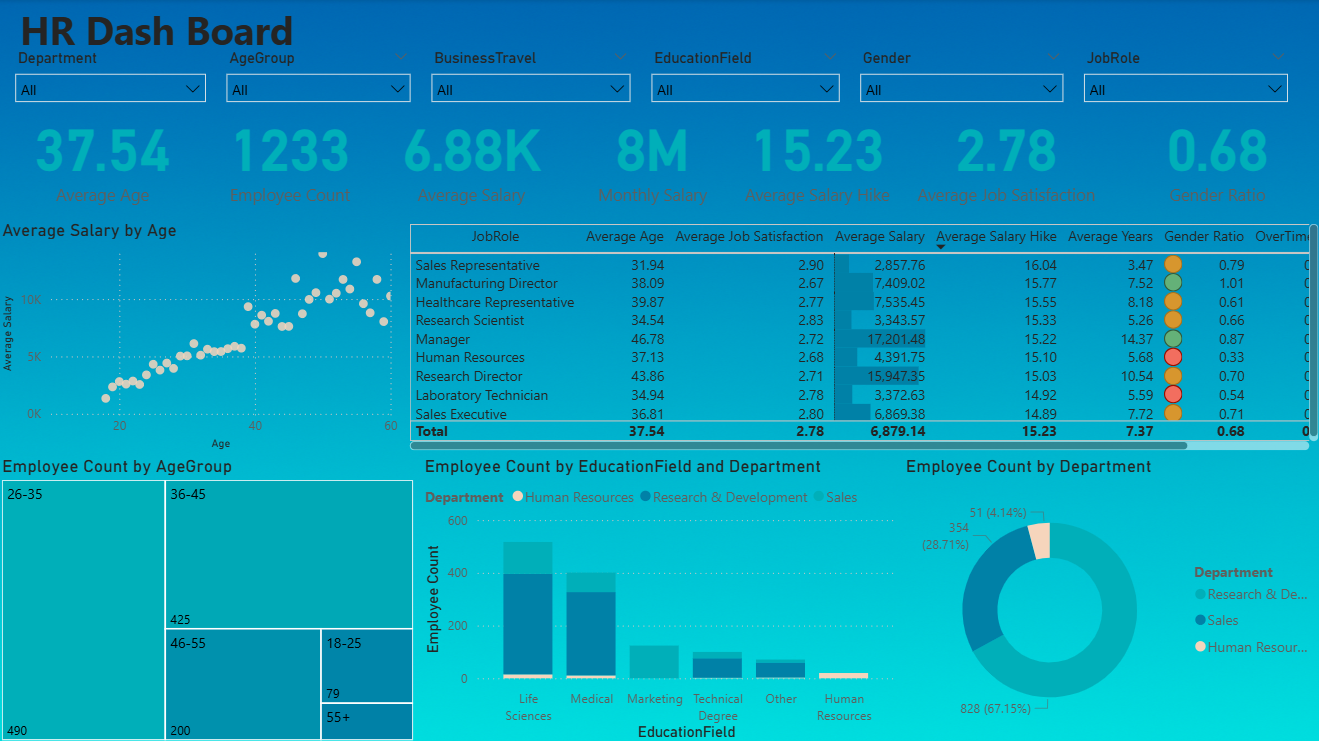

This screenshot's page, from the dashboard's own definition file:
{"tool":"powerbi","page":{"name":"OVER VIEW","canvas":[1280,720],"ordinal":0},"visuals":[{"type":"treemap","fields":{"Values":["HR_Analytics.Employee Count"],"Group":["HR_Analytics.AgeGroup"]},"box":[0,440,406.7,280],"z":0},{"type":"columnChart","fields":{"Series":["HR_Analytics.Department"],"Y":["HR_Analytics.Employee Count"],"Category":["HR_Analytics.EducationField"]},"box":[408,440,464,280],"z":1000},{"type":"donutChart","fields":{"Category":["HR_Analytics.Department"],"Y":["HR_Analytics.Employee Count"]},"box":[872,440,408,280],"z":2000},{"type":"scatterChart","fields":{"X":["HR_Analytics.Age"],"Y":["HR_Analytics.Average Salary"]},"box":[0,212,392,228],"z":3000},{"type":"tableEx","fields":{"Values":["HR_Analytics.JobRole","HR_Analytics.Average Age","HR_Analytics.Average Job Satisfaction","HR_Analytics.Average Salary","HR_Analytics.Average Salary Hike","HR_Analytics.Average Years","HR_Analytics.Gender Ratio","HR_Analytics.OverTime %","HR_Analytics.Employee Count"]},"box":[392,212,888,228],"z":4000},{"type":"card","fields":{"Values":["HR_Analytics.Employee Count"]},"box":[204,88,158,124],"z":5000},{"type":"card","fields":{"Values":["HR_Analytics.Average Salary"]},"box":[362,88,192,124],"z":6000},{"type":"card","fields":{"Values":["HR_Analytics.Average Age"]},"box":[0,88,204,124],"z":7000},{"type":"card","fields":{"Values":["HR_Analytics.Monthly Salary"]},"box":[554,88,158,124],"z":8000},{"type":"card","fields":{"Values":["HR_Analytics.Average Salary Hike"]},"box":[712,88,160,124],"z":9000},{"type":"card","fields":{"Values":["HR_Analytics.Average Job Satisfaction"]},"box":[872,88,204,124],"z":10000},{"type":"card","fields":{"Values":["HR_Analytics.Gender Ratio"]},"box":[1076,88,204,124],"z":11000},{"type":"slicer","fields":{"Values":["HR_Analytics.Department"]},"box":[7,44,204,60],"z":12000},{"type":"slicer","fields":{"Values":["HR_Analytics.AgeGroup"]},"box":[211,44,198,60],"z":13000},{"type":"slicer","fields":{"Values":["HR_Analytics.BusinessTravel"]},"box":[409,44,212,60],"z":14000},{"type":"slicer","fields":{"Values":["HR_Analytics.EducationField"]},"box":[621,44,202,68],"z":15000},{"type":"slicer","fields":{"Values":["HR_Analytics.Gender"]},"box":[823,44,216,68],"z":16000},{"type":"slicer","fields":{"Values":["HR_Analytics.JobRole"]},"box":[1039,44,217,60],"z":17000},{"type":"textbox","box":[17.1,0,411.4,74.3],"z":18000}]}

Visuals, with their boxes in screenshot pixels (x1, y1, x2, y2), scaled from the page's 1280x720 canvas onto the 1319x741 screenshot:
treemap - HR_Analytics.Employee Count x HR_Analytics.AgeGroup: box=[0, 453, 419, 740]
columnChart - HR_Analytics.Department x HR_Analytics.Employee Count: box=[420, 453, 899, 740]
donutChart - HR_Analytics.Department x HR_Analytics.Employee Count: box=[899, 453, 1318, 740]
scatterChart - HR_Analytics.Age x HR_Analytics.Average Salary: box=[0, 218, 404, 453]
tableEx - HR_Analytics.JobRole x HR_Analytics.Average Age: box=[404, 218, 1318, 453]
card - HR_Analytics.Employee Count: box=[210, 91, 373, 218]
card - HR_Analytics.Average Salary: box=[373, 91, 571, 218]
card - HR_Analytics.Average Age: box=[0, 91, 210, 218]
card - HR_Analytics.Monthly Salary: box=[571, 91, 734, 218]
card - HR_Analytics.Average Salary Hike: box=[734, 91, 899, 218]
card - HR_Analytics.Average Job Satisfaction: box=[899, 91, 1109, 218]
card - HR_Analytics.Gender Ratio: box=[1109, 91, 1318, 218]
slicer - HR_Analytics.Department: box=[7, 45, 217, 107]
slicer - HR_Analytics.AgeGroup: box=[217, 45, 421, 107]
slicer - HR_Analytics.BusinessTravel: box=[421, 45, 640, 107]
slicer - HR_Analytics.EducationField: box=[640, 45, 848, 115]
slicer - HR_Analytics.Gender: box=[848, 45, 1071, 115]
slicer - HR_Analytics.JobRole: box=[1071, 45, 1294, 107]
textbox: box=[18, 0, 442, 76]
